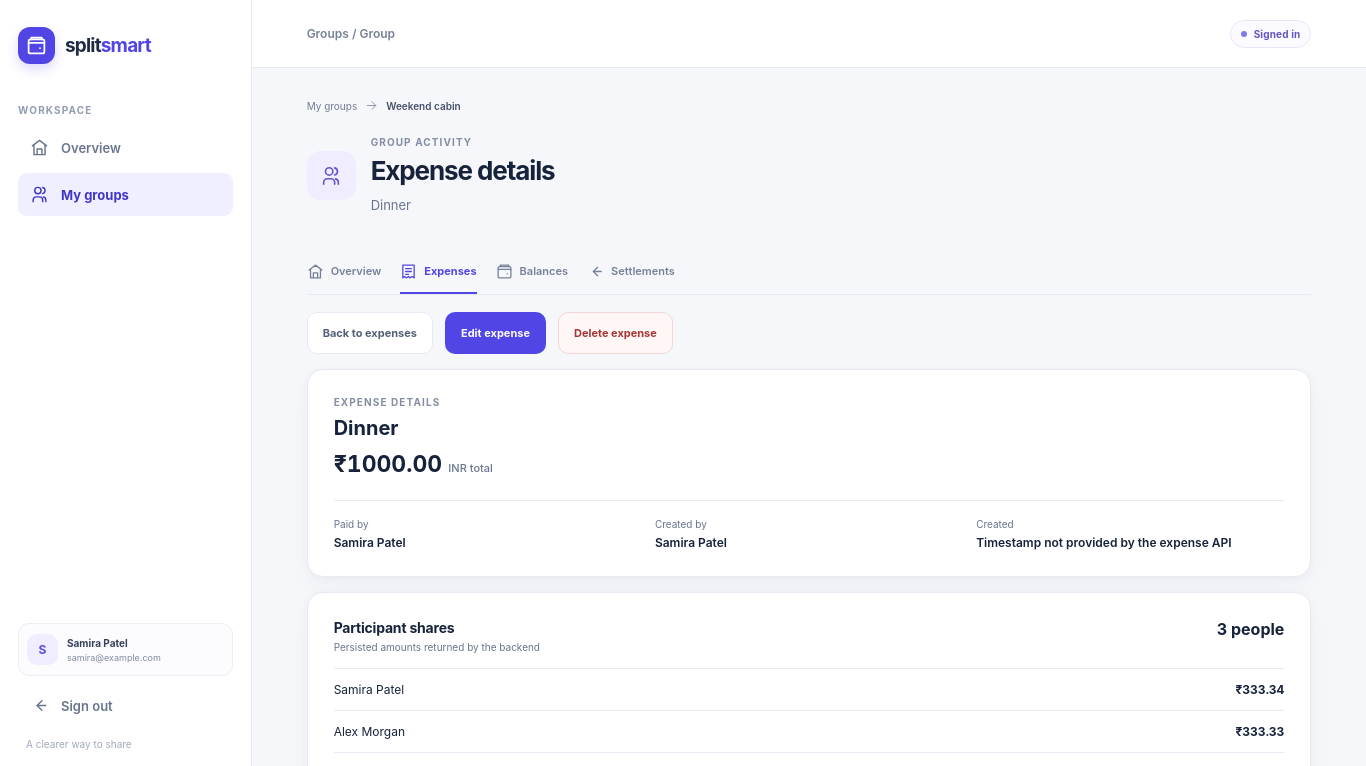
expense editing and deletion › cancels the accessible delete confirmation without sending a request
Check: the heading "Dinner" is shown, box 334,416 -> 398,440
Step 1. Click the button "Delete expense" → [615, 332], box 558,312 -> 673,354
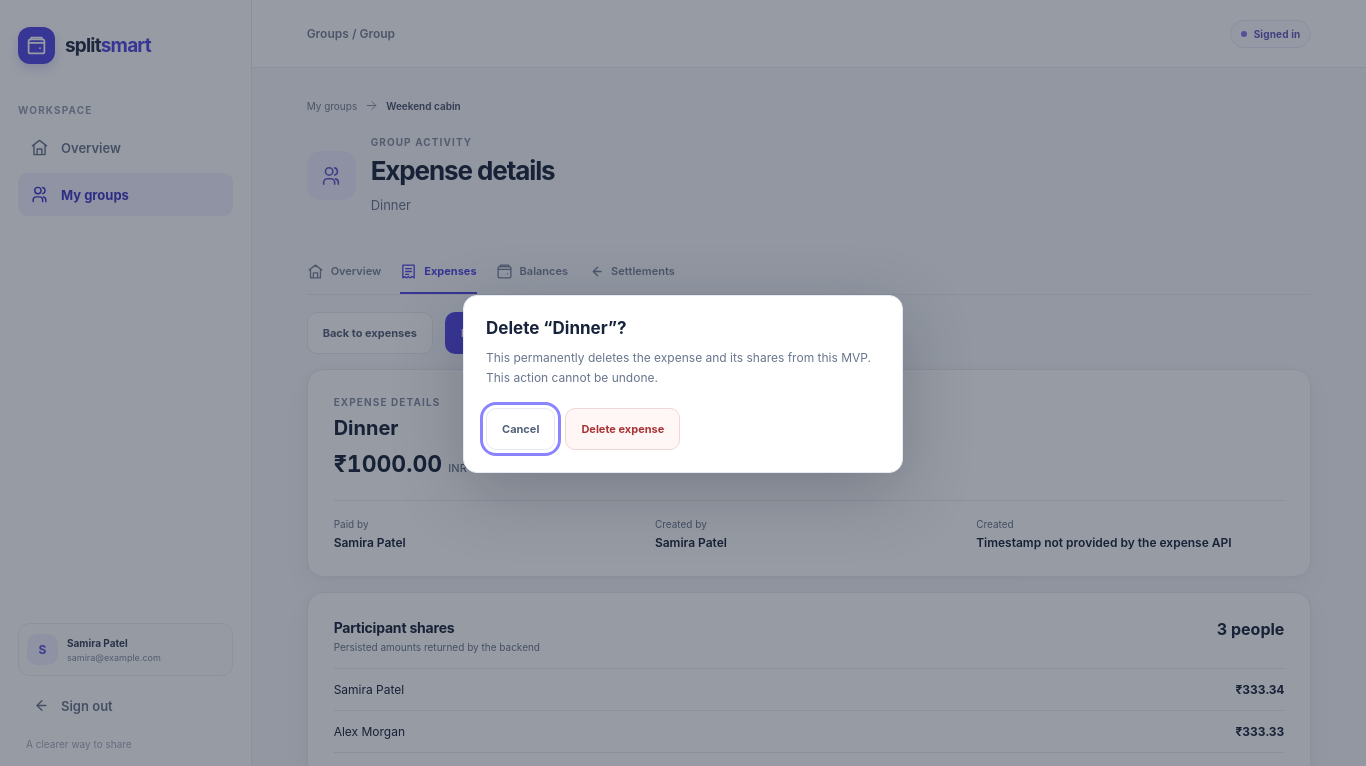
Check: the text "permanently deletes" is shown, box 486,350 -> 871,384
Step 2. Click the button "Cancel" → [521, 429], box 486,408 -> 555,450
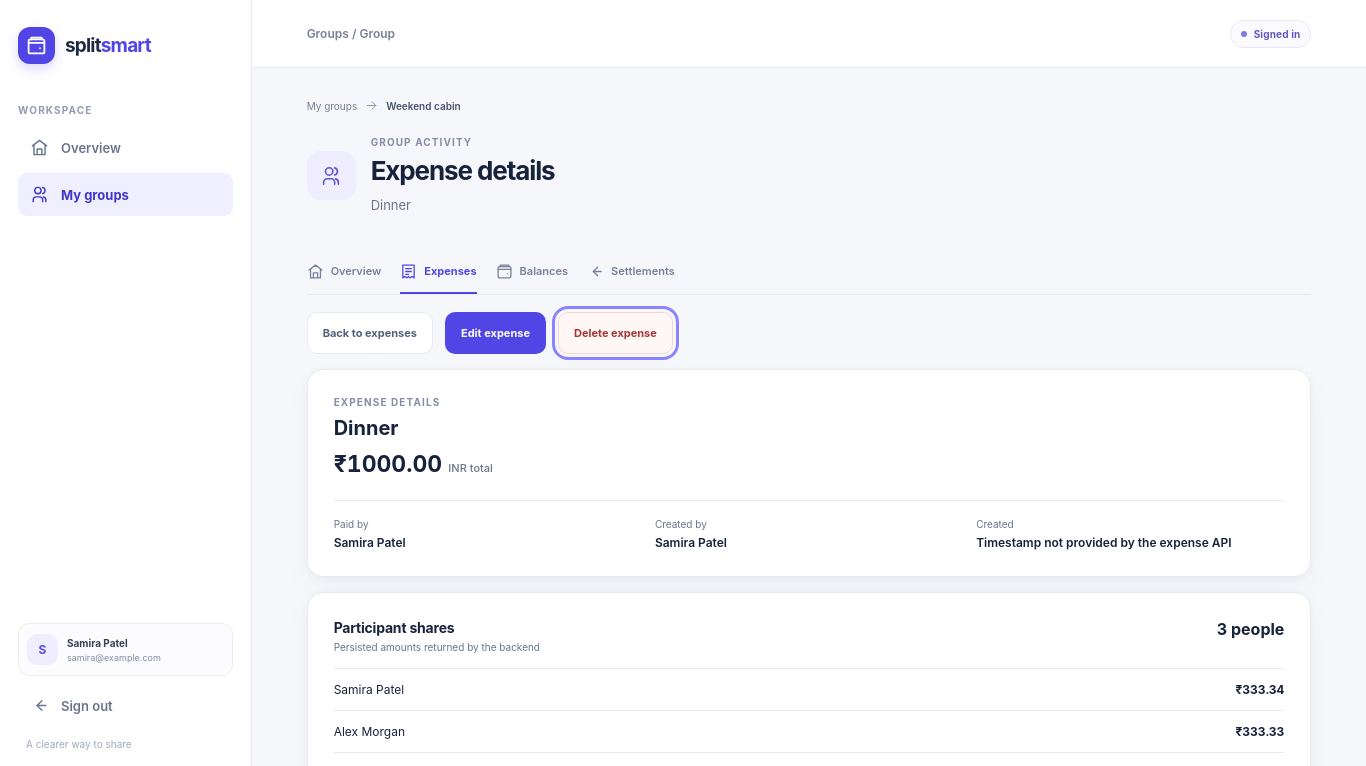
Check: the dialog is gone
